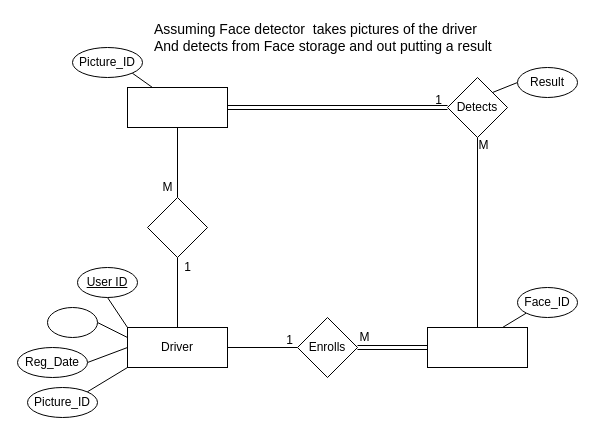
This 595x435 diagram has some shape labels left out. Here are the shapes that lost their labels. From the top down, the centre of each, then its label:
(177,107): Face Detector
(177,227): Scans
(72,322): Name
(477,347): Face
